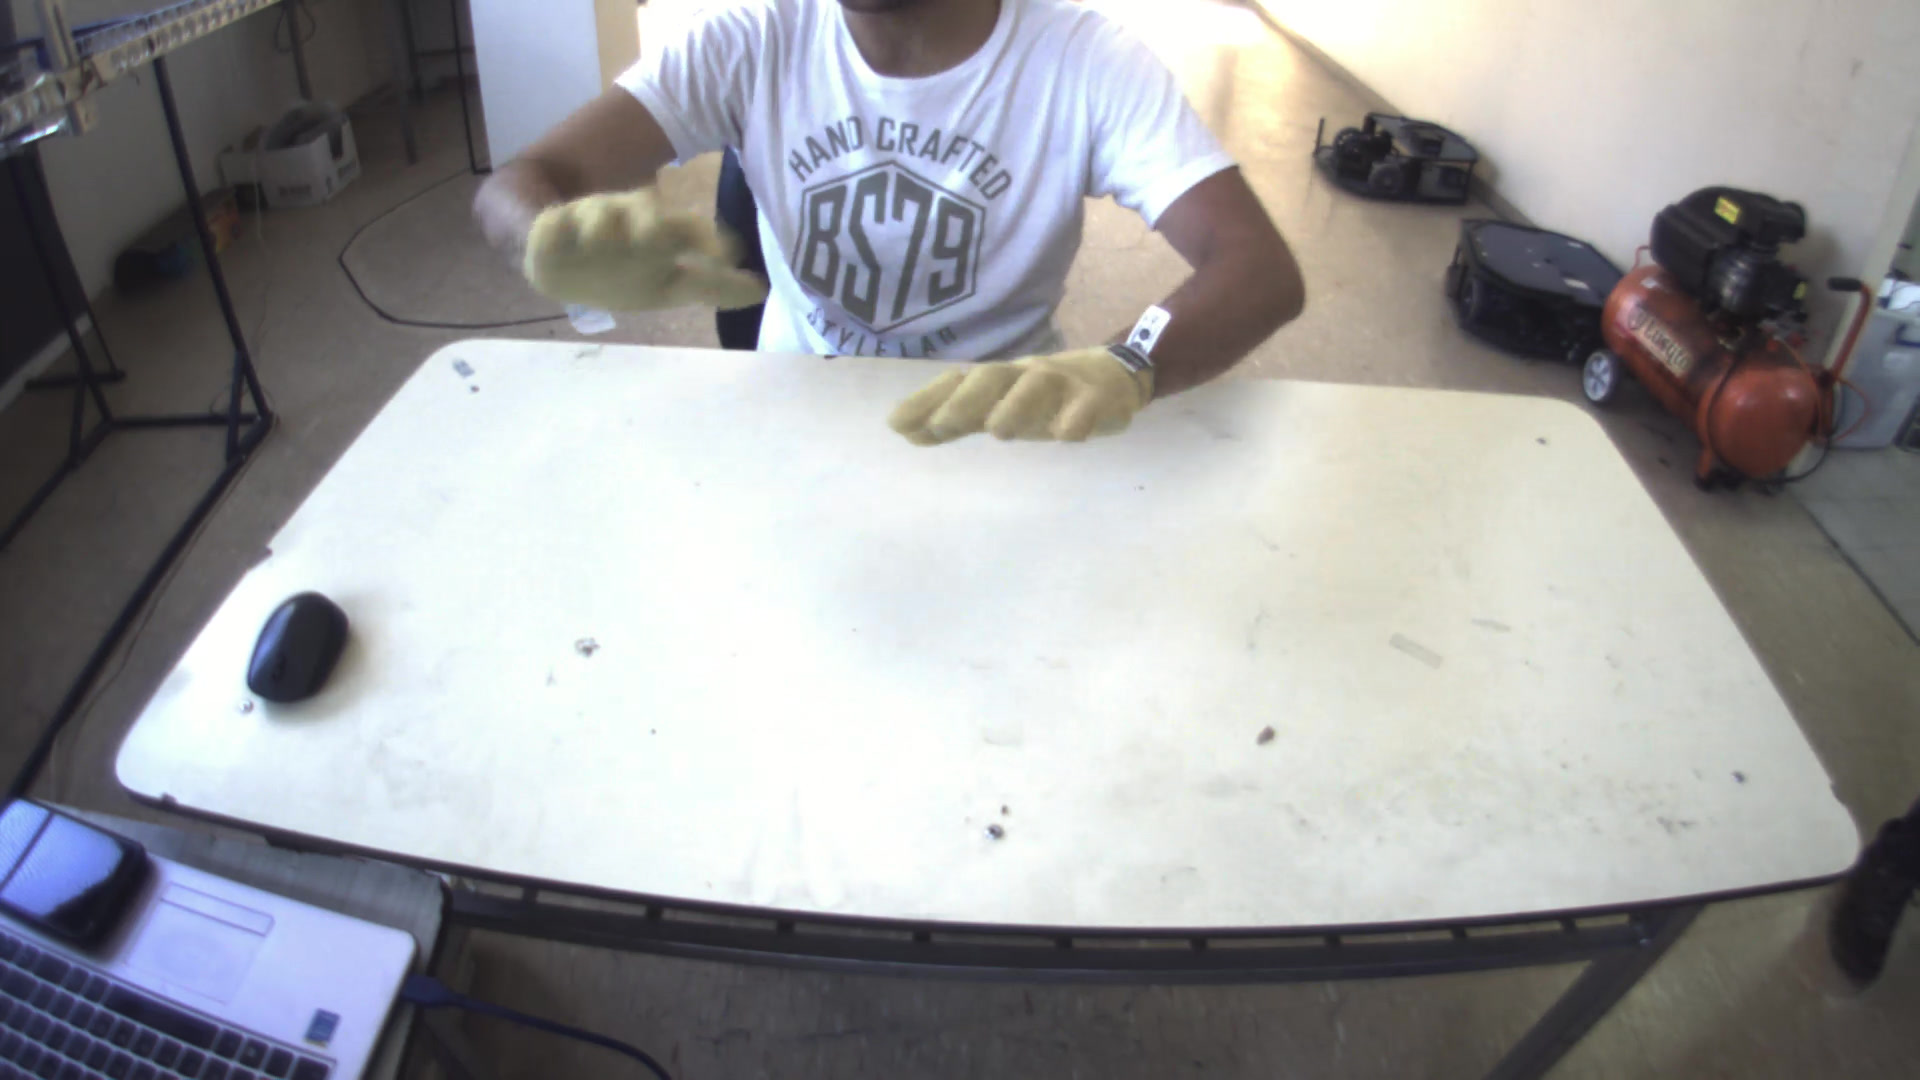hand: (502, 145, 758, 307), (876, 320, 1168, 450)
